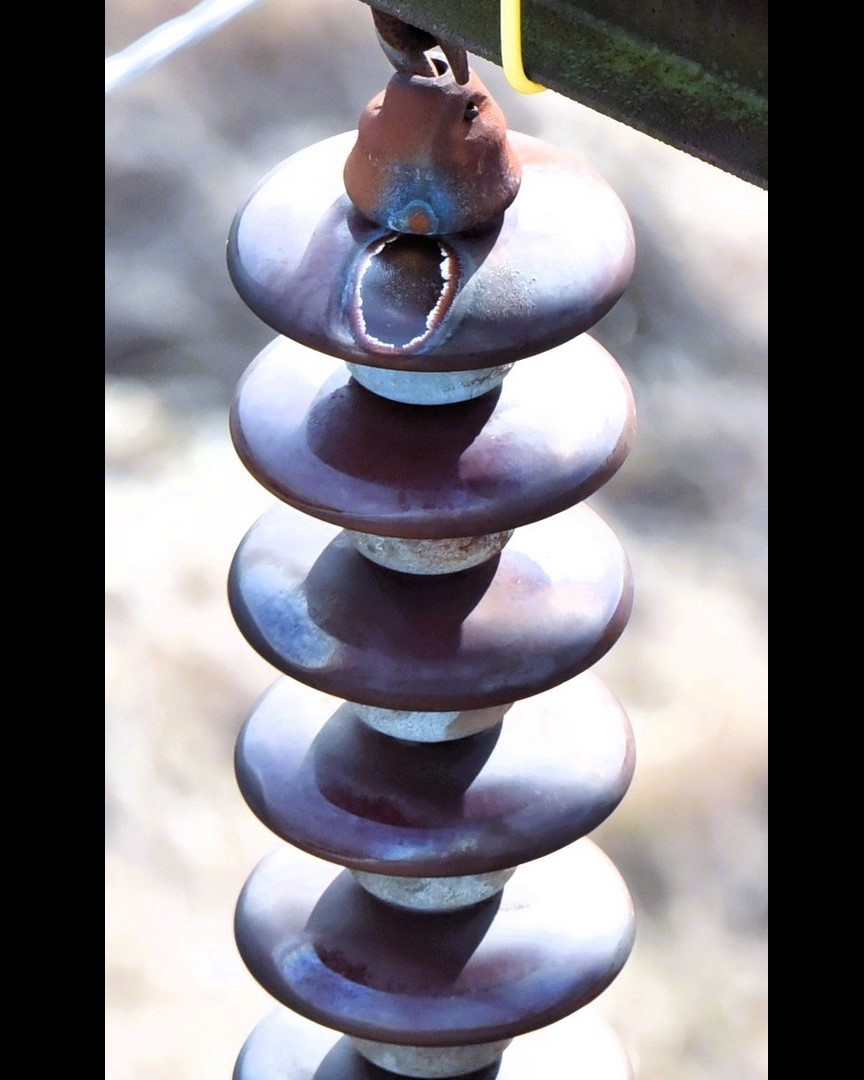Insulator flashover: (215, 114, 661, 383)
